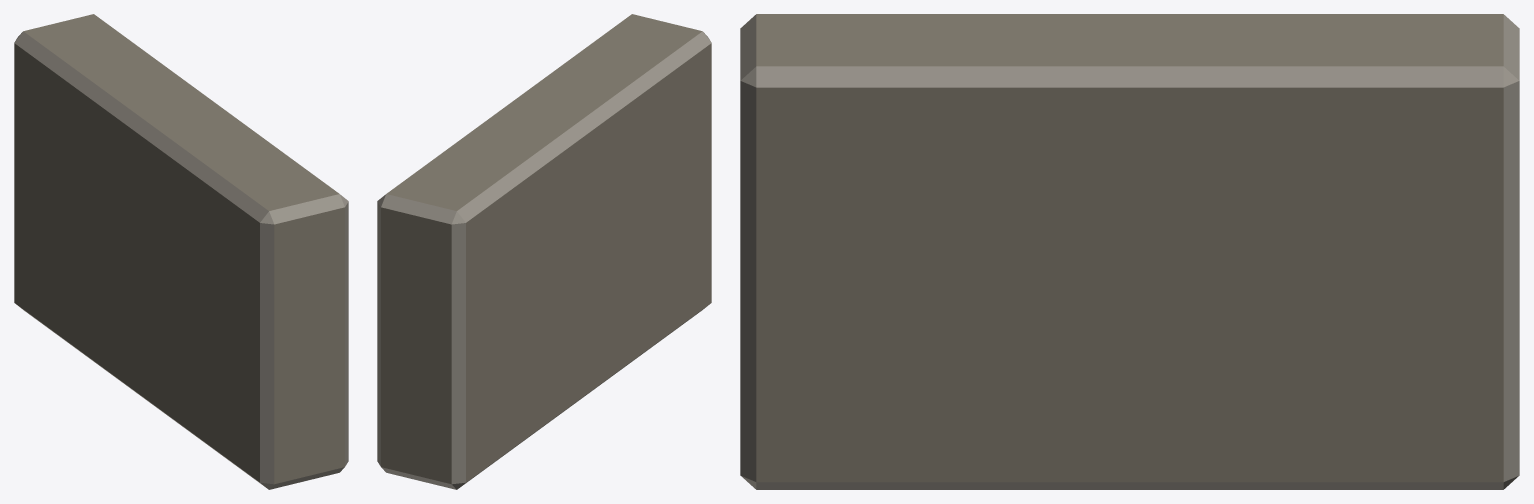
File: Wall_A_3_1.fbx
3 renders of one model, left to right at view 1: azimuth 30°, elevation 25°; view 2: azimuth 150°, elevation 25°; view 3: azimuth 270°, elevation 25°, orthographic. The views are drawn at different scales.
Parts seen in each view (by area): view 1: Wall_A_3_1; view 2: Wall_A_3_1; view 3: Wall_A_3_1.
Boxes of the visible parts, box(x1,y1,x2,y2) form: Wall_A_3_1: box(14, 14, 348, 489); Wall_A_3_1: box(377, 14, 711, 489); Wall_A_3_1: box(740, 14, 1519, 489).
Bounding box in the file's own units: 40 × 120 × 200.
